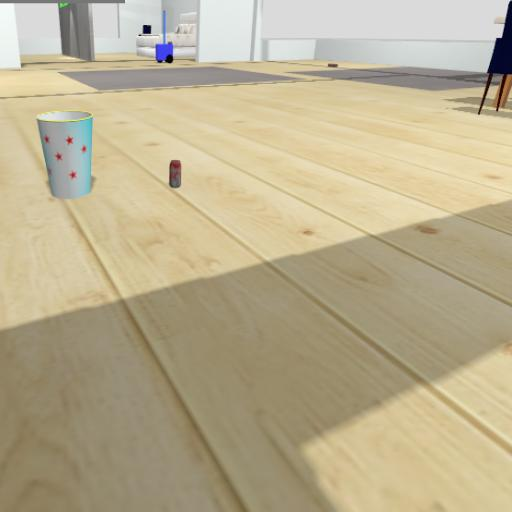COCA: (154, 151, 200, 220)
Trash: (37, 106, 115, 211)
